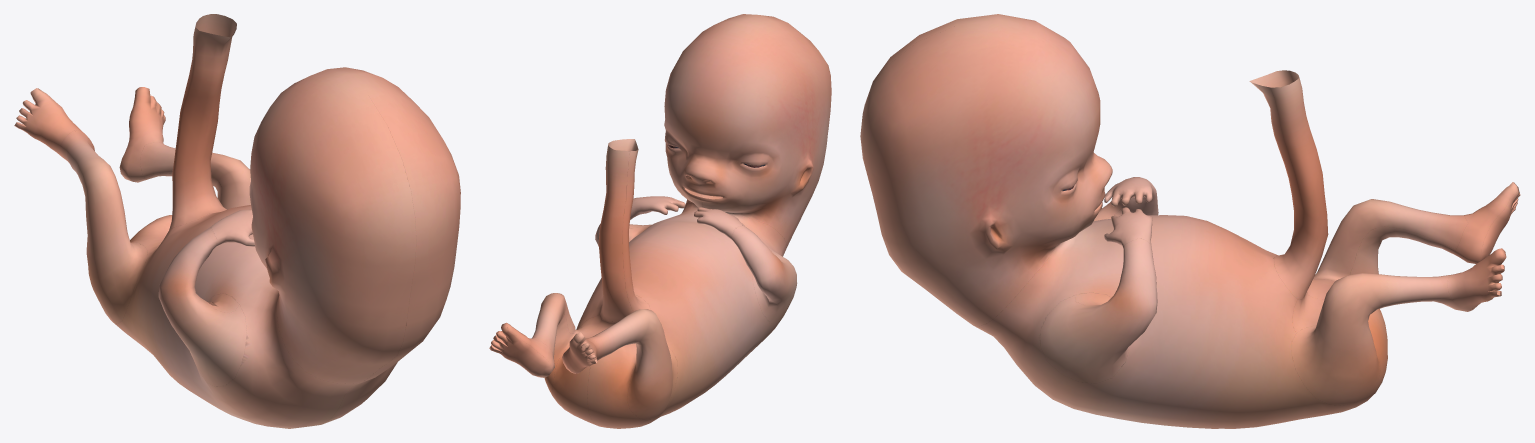
The model's file is feto.obj.
The picture shows the model from 3 angles, left to right: view 1: azimuth 30°, elevation 25°; view 2: azimuth 150°, elevation 25°; view 3: azimuth 270°, elevation 25°; orthographic projection. The views are drawn at different scales.
Parts seen in each view (by area): view 1: Model__Fetus12WeeksBody; view 2: Model__Fetus12WeeksBody; view 3: Model__Fetus12WeeksBody.
Part boxes in pixels (left/top/right/bottom): Model__Fetus12WeeksBody: left=14, top=14, right=460, bottom=428; Model__Fetus12WeeksBody: left=489, top=14, right=831, bottom=428; Model__Fetus12WeeksBody: left=860, top=14, right=1520, bottom=428.
Bounding box in the file's own units: 14.03 × 23.3 × 34.66.
